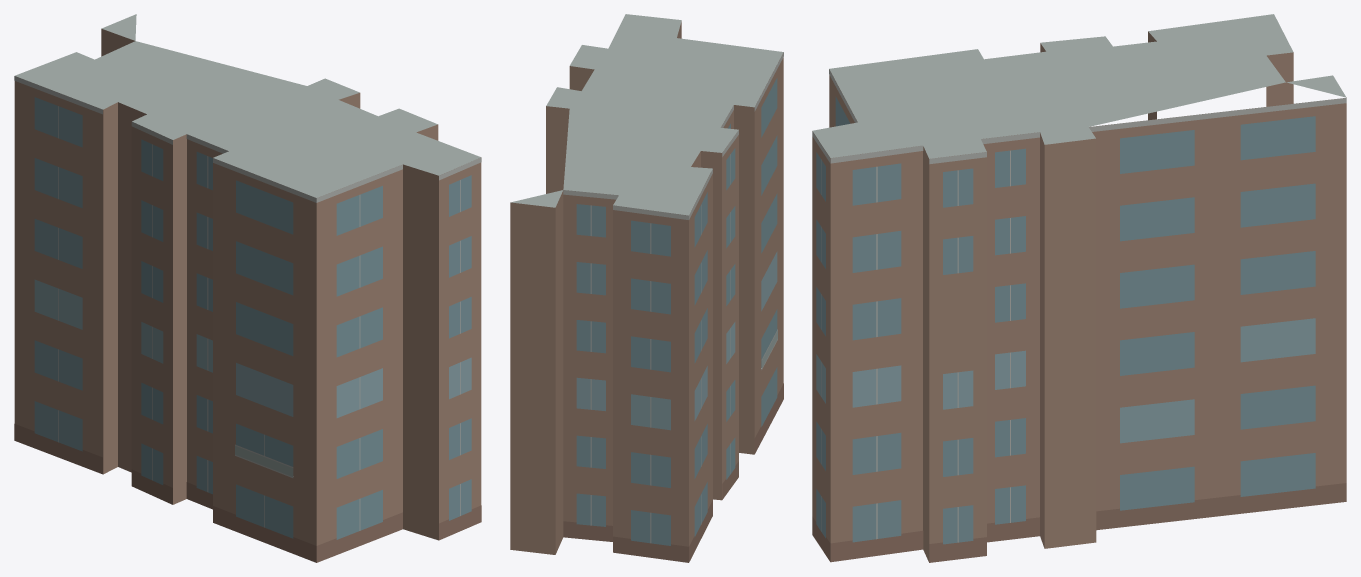
File: survey-upis-32562082.glb
The picture shows the model from 3 angles, left to right: view 1: azimuth 30°, elevation 25°; view 2: azimuth 150°, elevation 25°; view 3: azimuth 270°, elevation 25°; orthographic projection. The views are drawn at different scales.
Parts seen in each view (by area): view 1: survey-upis-32562082.tmp; view 2: survey-upis-32562082.tmp; view 3: survey-upis-32562082.tmp.
Part boxes in pixels (x1,y1,x2,y2): survey-upis-32562082.tmp: (14, 14, 481, 562); survey-upis-32562082.tmp: (510, 14, 783, 562); survey-upis-32562082.tmp: (812, 14, 1346, 562).
Size of the model in its own units: 14 by 18.2 by 21.82.
